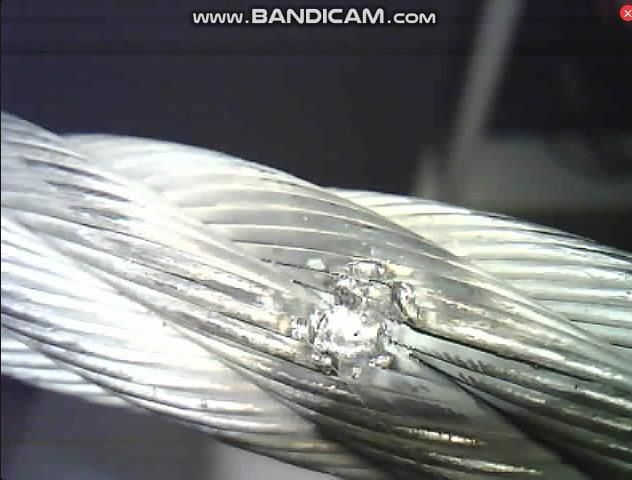thunderbolt: (273, 255, 449, 389)
